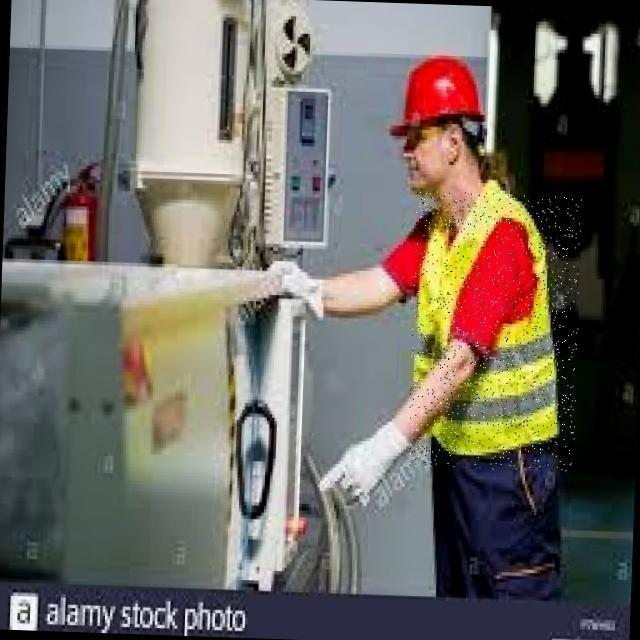helmet: (393, 45, 493, 141)
vest: (407, 191, 582, 472)
